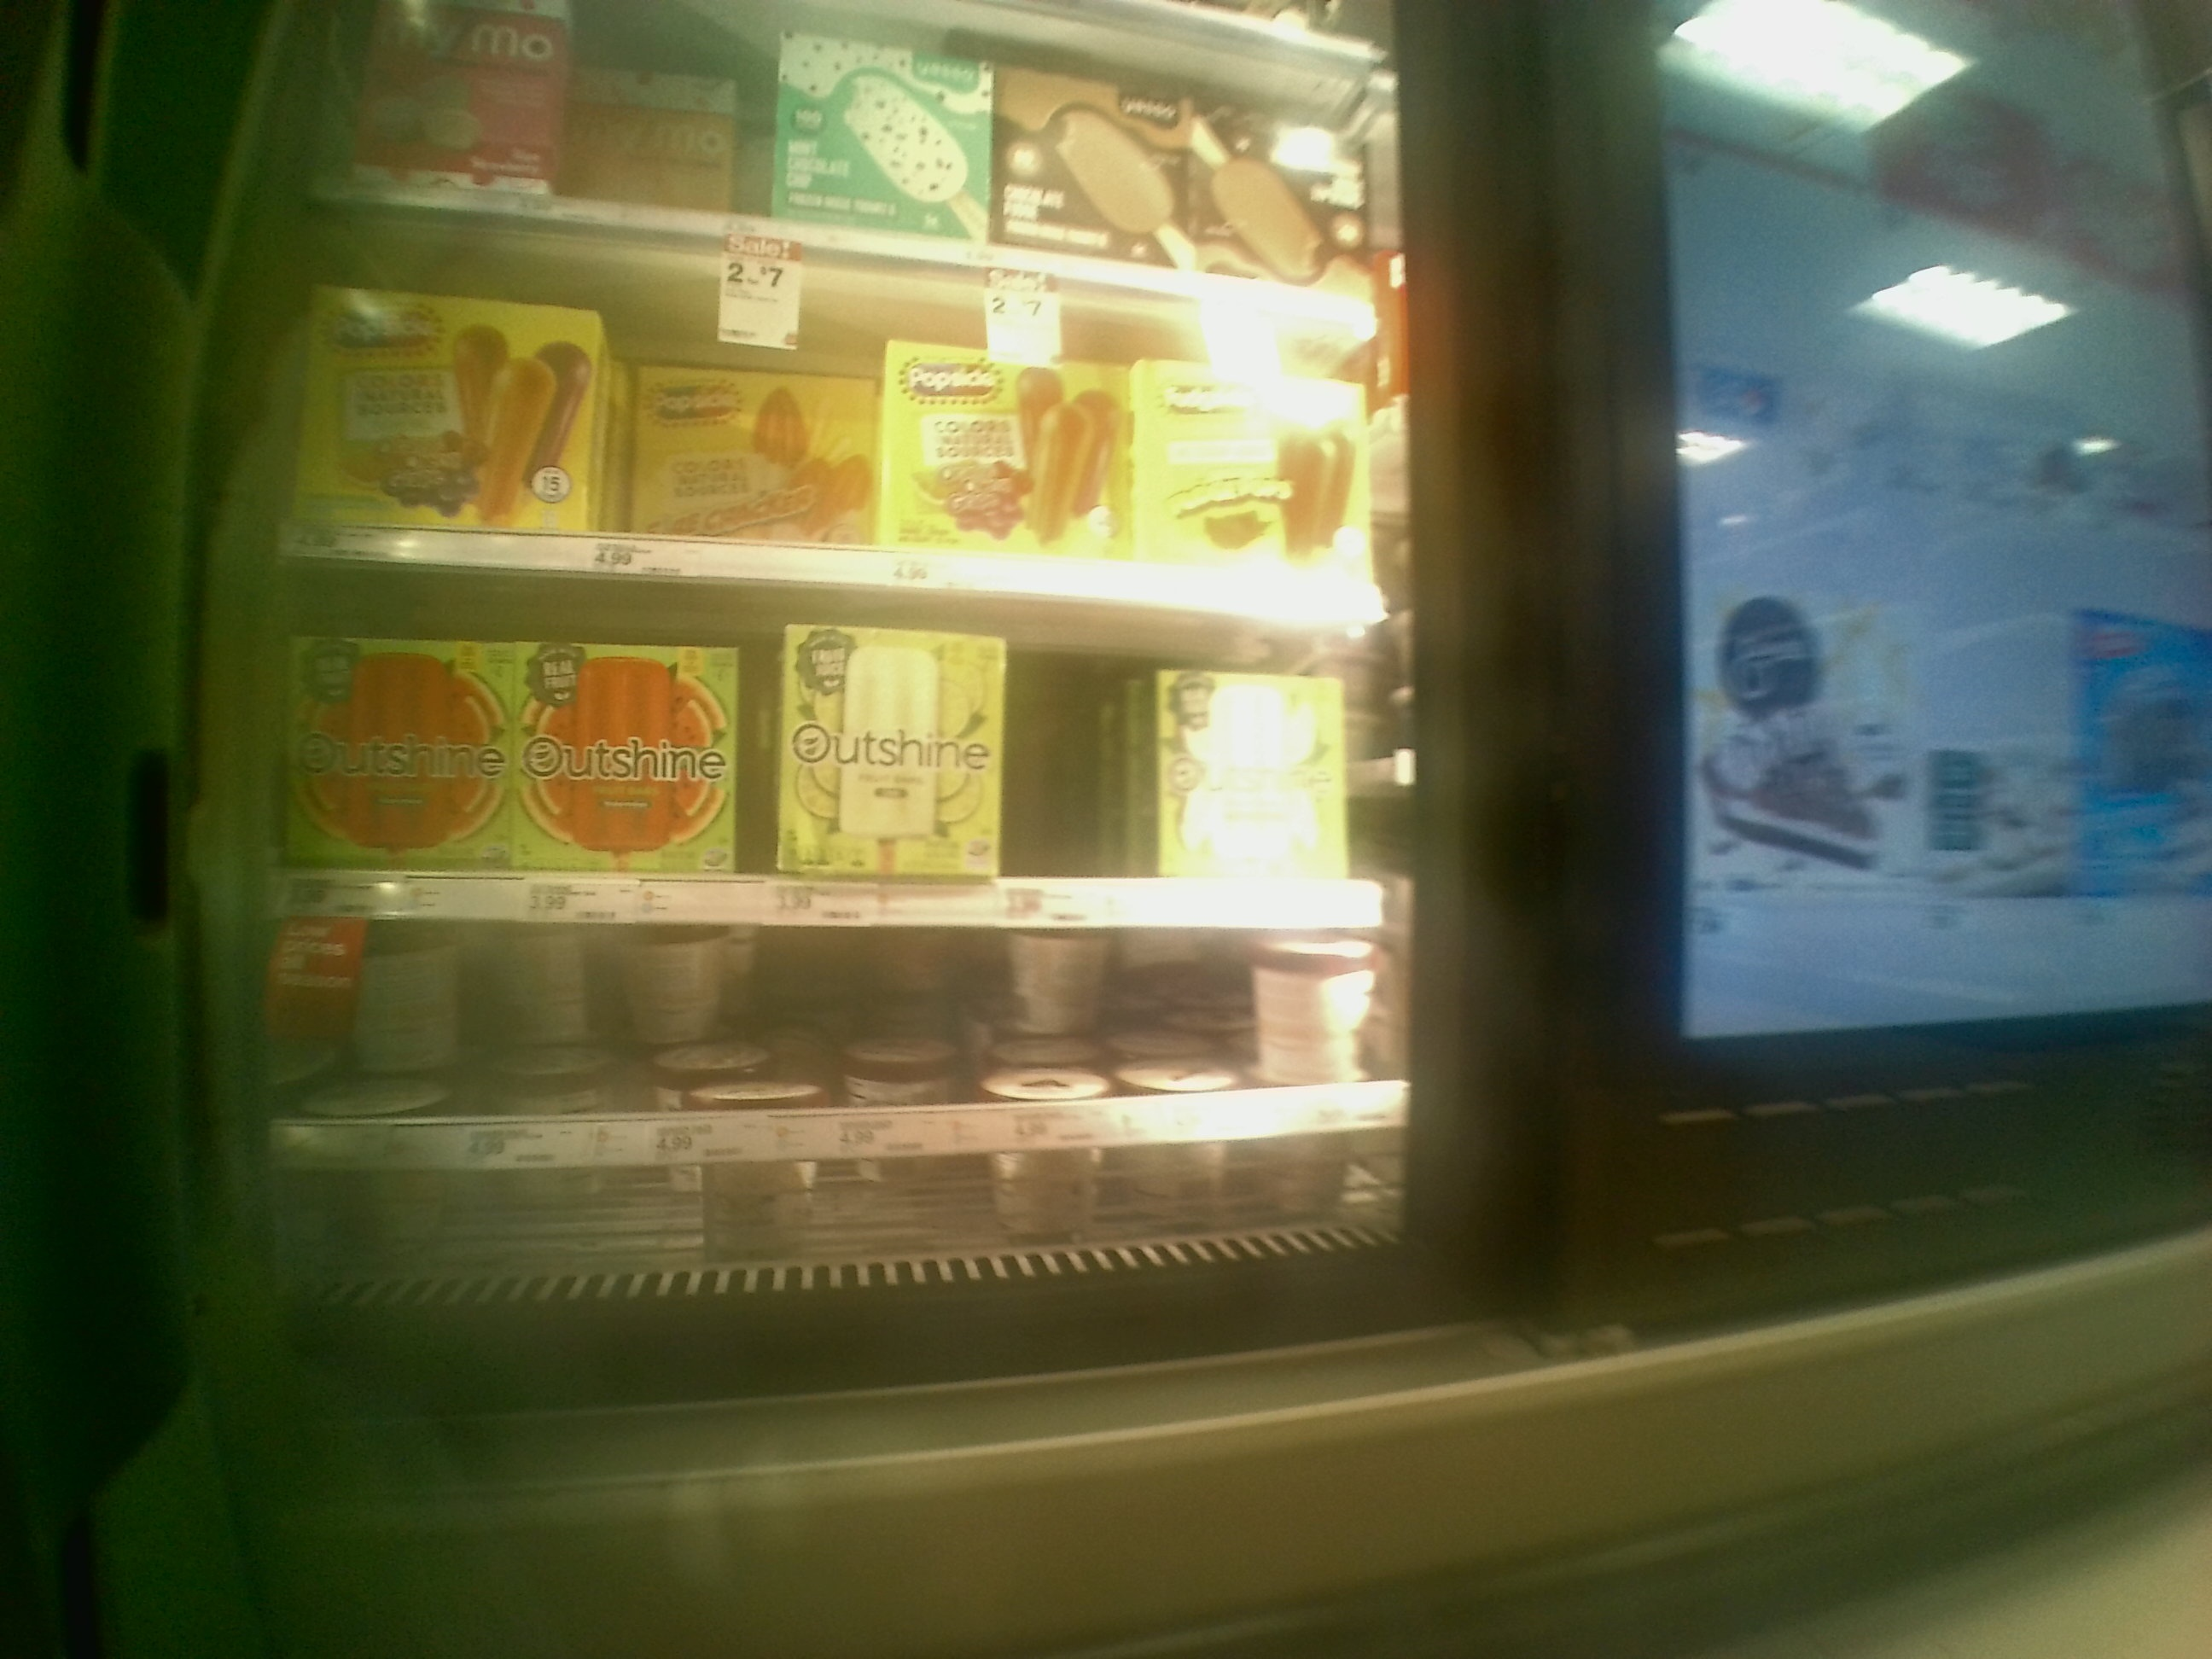ice-cream-shelf: (279, 547, 1407, 922), (280, 922, 1407, 1161)
